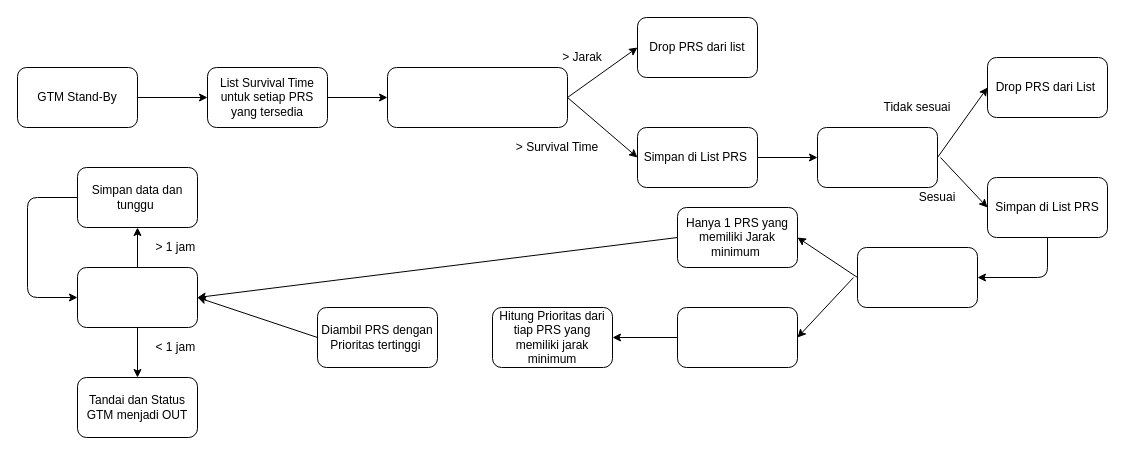
The diagram is 1125 pixels wide and 455 high, and some of its shapes have lost their labels. Here are the shapes that lost their labels. From the top down, the centre of each, then its label:
At point (477, 97): "Membandingkan Jarak MS (posisi GTM) ke PRS dengan survival time PRS".
At point (877, 157): "Cek Kapasitas GTM dengan Kapasitas PRS".
At point (137, 297): "Hitung selisih antara Survival Time dan Jarak".
At point (917, 277): "Sorting List PRS dari minimum jarak hingga maksimum".
At point (737, 337): "Lebih dari 1 PRS dengan minimum jarak".
